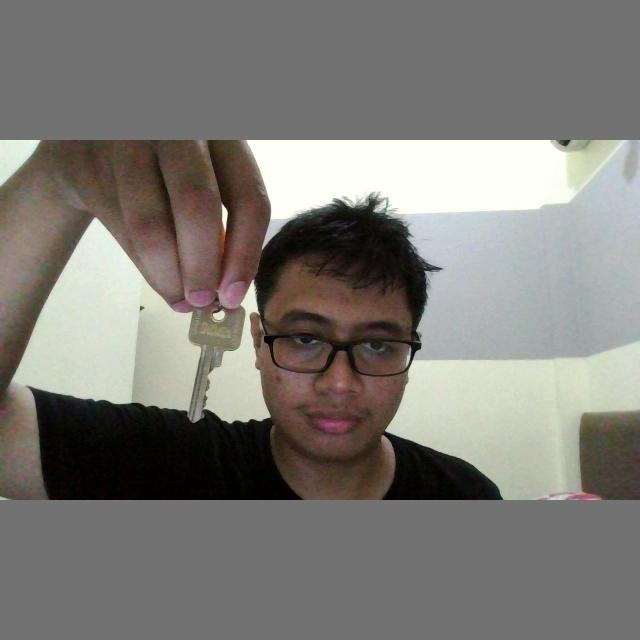Keys: (183, 286, 249, 430)
